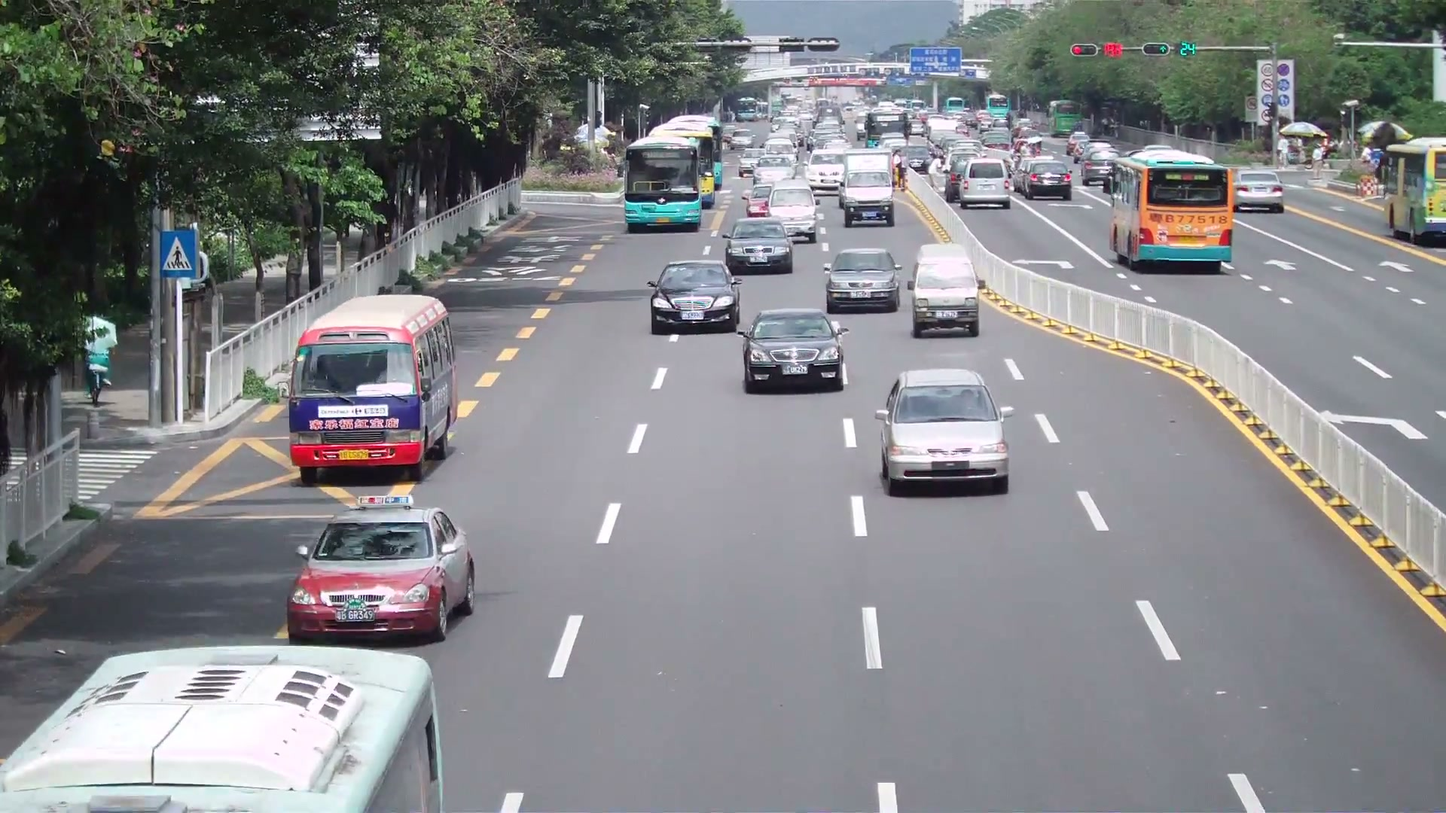bus: (287, 292, 457, 484), (1107, 143, 1235, 272), (621, 139, 704, 232), (1382, 136, 1445, 244), (650, 113, 723, 199)
car: (1, 642, 447, 805), (285, 506, 476, 645), (874, 368, 1013, 496), (741, 308, 850, 393), (649, 259, 741, 333), (911, 243, 981, 338), (825, 247, 902, 313), (723, 219, 796, 275), (762, 180, 820, 241), (955, 156, 1013, 209), (1017, 155, 1072, 201), (1233, 167, 1284, 212)
pedestrian: (85, 315, 118, 405)
truck: (838, 150, 895, 225)
